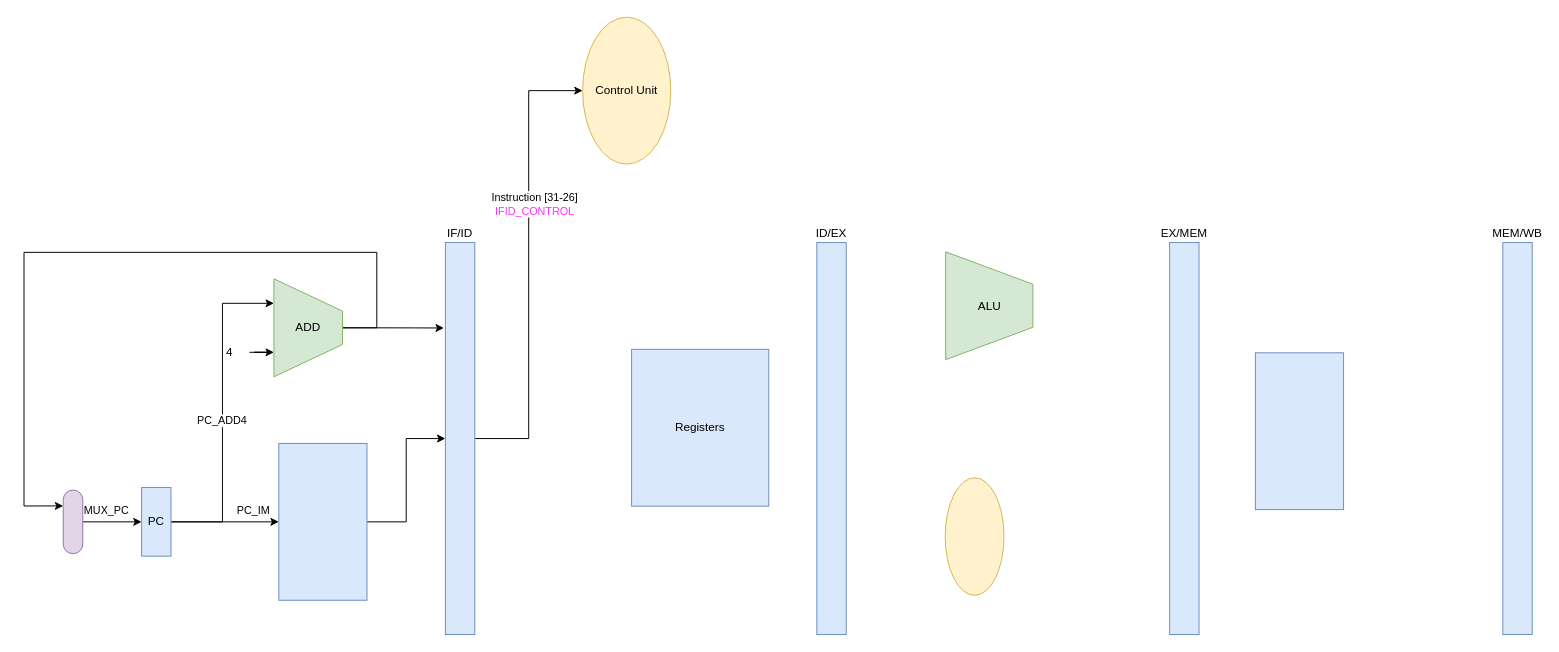
This 1559x652 diagram has some shape labels left out. Each missing label, with the centre of its shape:
"ALU Control Unit" goes at (x=974, y=536).
"Data Memory" goes at (x=1299, y=431).
"Instruction Memory" goes at (x=322, y=521).
"M U X" goes at (x=72, y=521).
